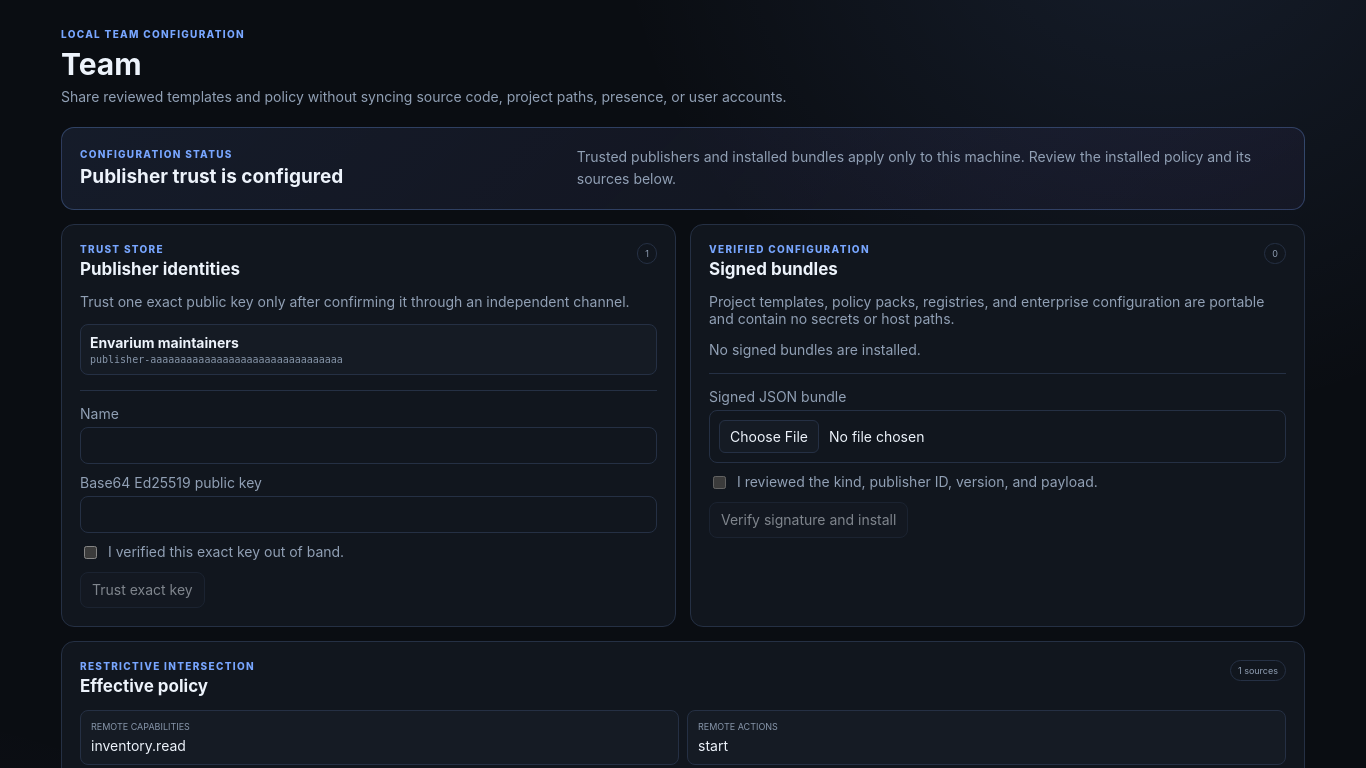
changing the publisher key revokes its previous confirmation
This screenshot has width=1366, height=768.
Check: the heading "Publisher identities" is shown, box [80, 259, 240, 279]
Step 1. Type "Owner" into the field labelled "Name" → (368, 445), box [80, 427, 657, 464]
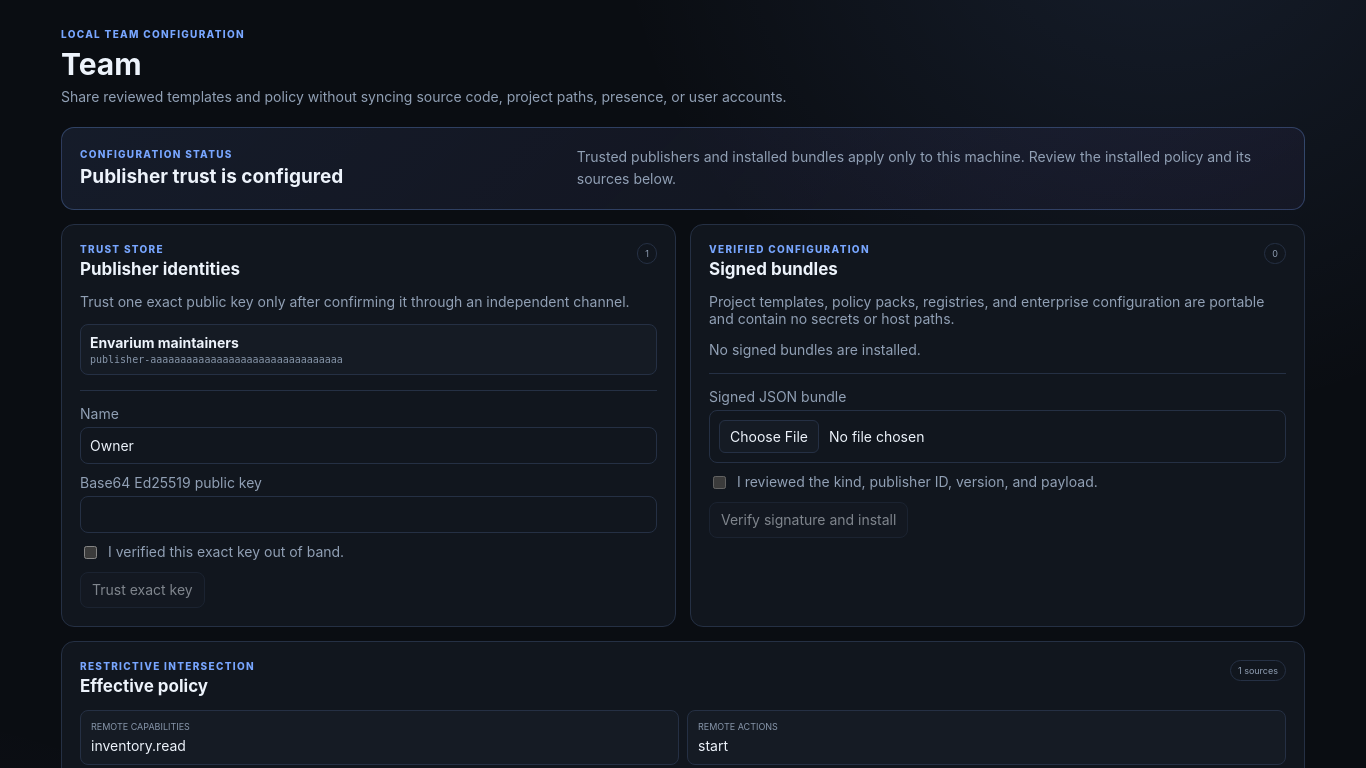
Step 2. Type "first-key" into the field labelled "Base64 Ed25519 public key" → (368, 514), box [80, 496, 657, 533]
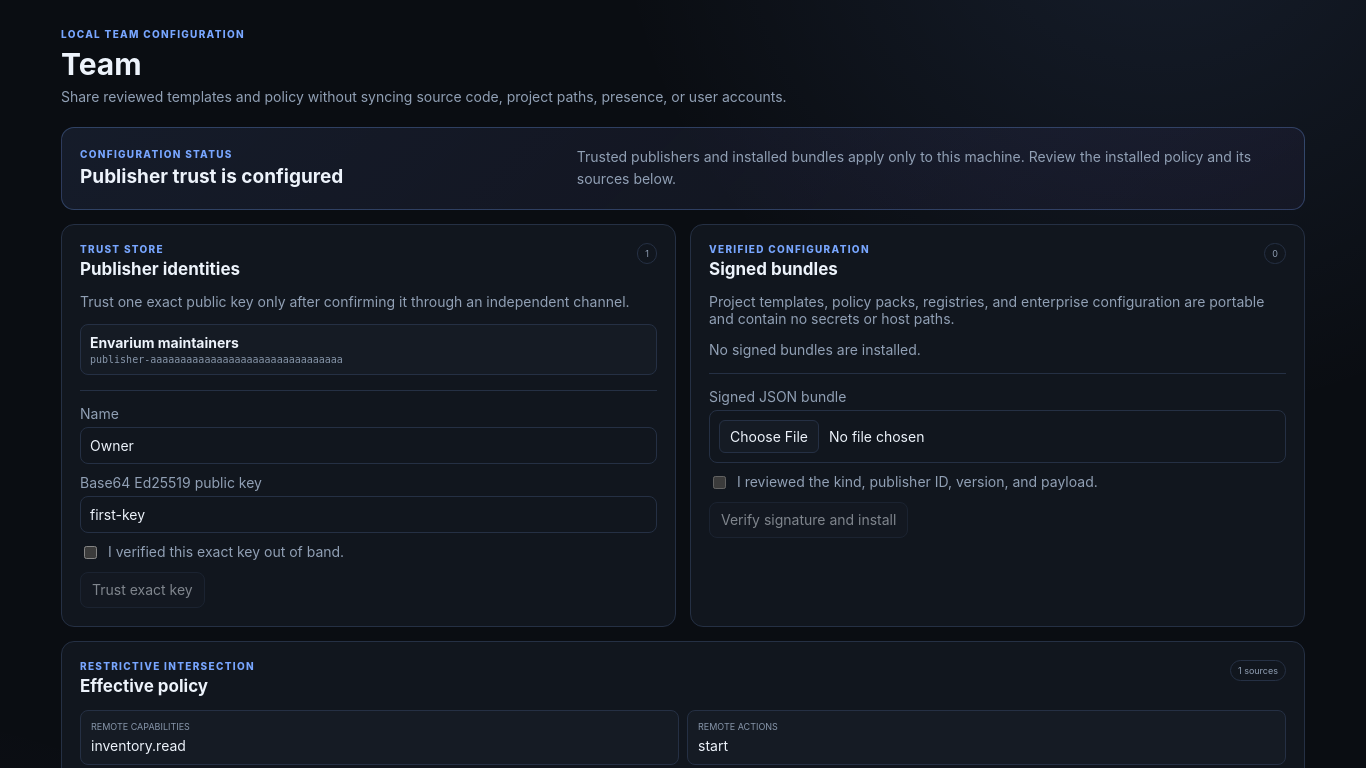
Step 3. Click the checkbox labelled "I verified this exact key out of band." → (90, 552), box [84, 546, 97, 559]
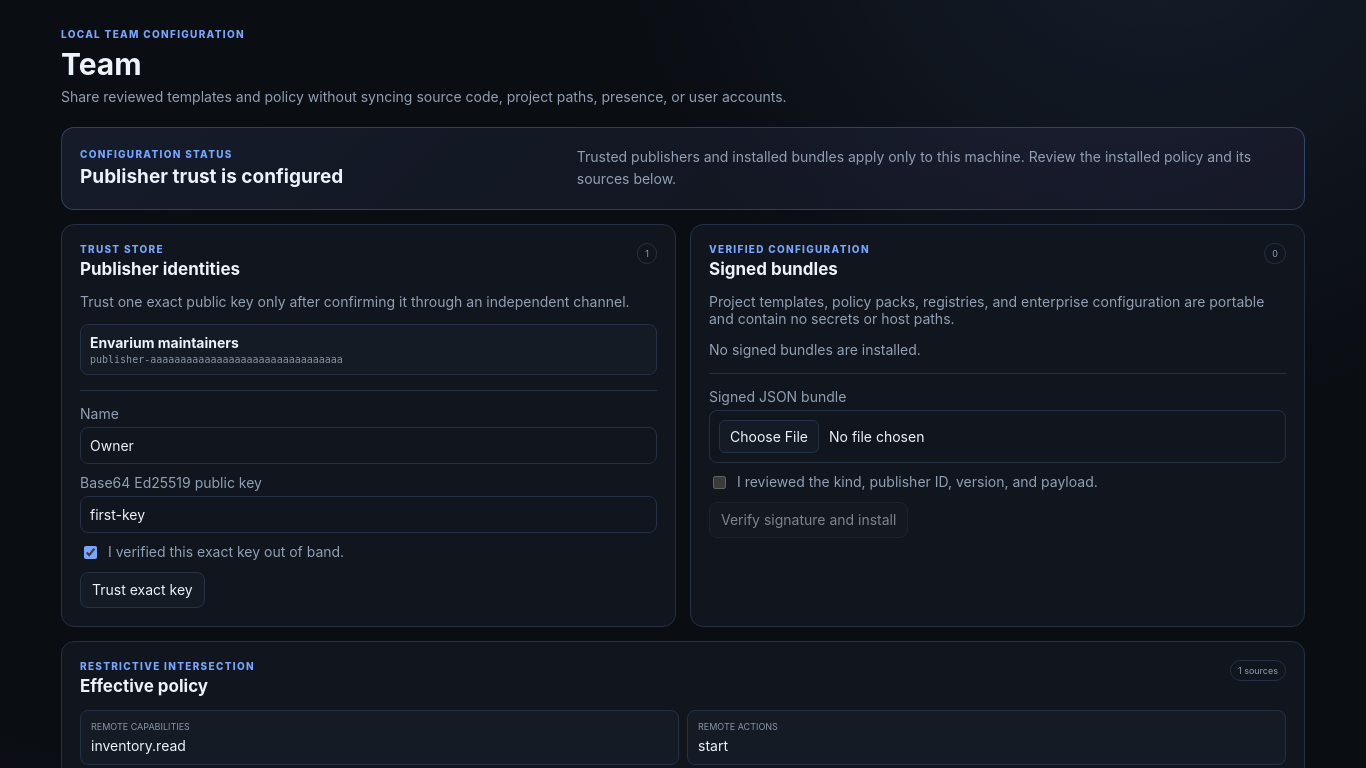
Check: the button "Trust exact key" is enabled, box [80, 572, 205, 608]
Step 4. Replace the text in the field labelled "Base64 Ed25519 public key" with "replacement-key" → (368, 514), box [80, 496, 657, 533]
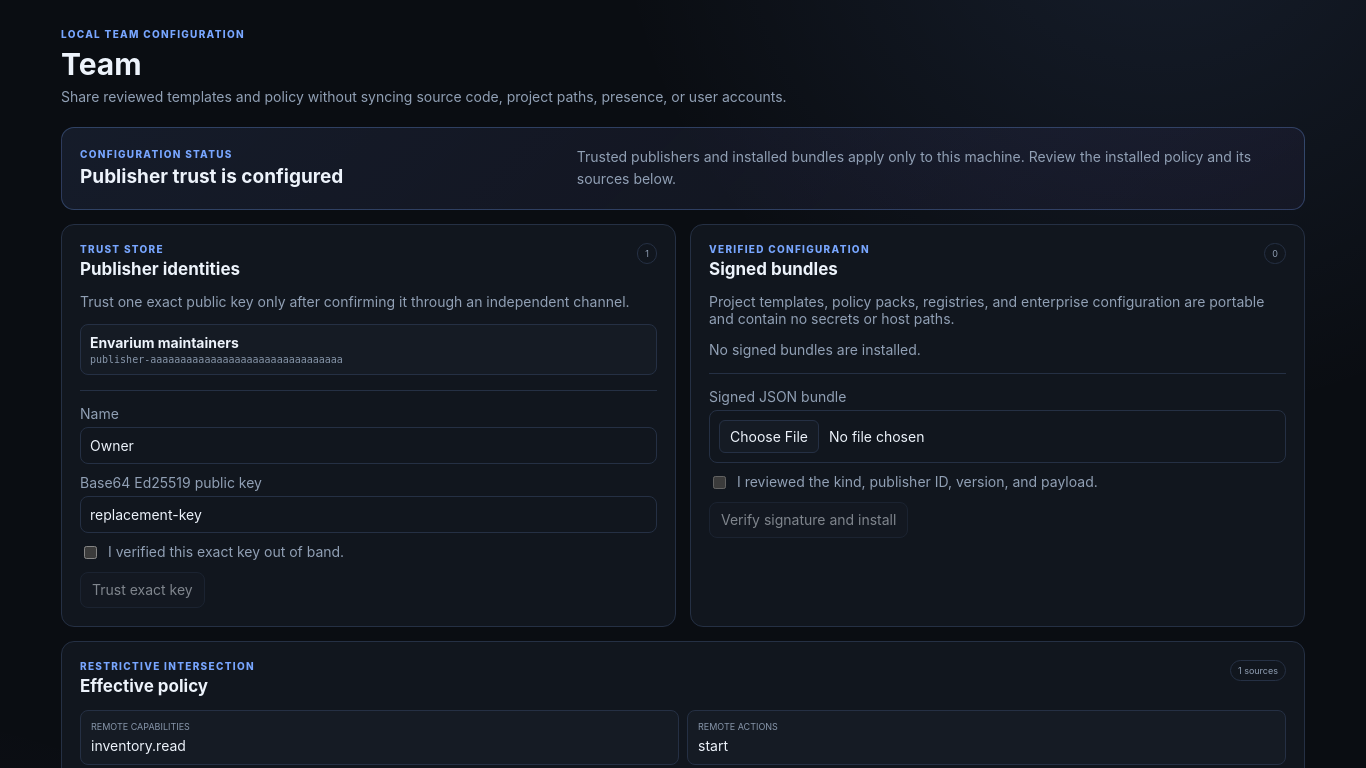
Check: the checkbox labelled "I verified this exact key out of band." is not checked, box [84, 546, 97, 559]
Check: the button "Trust exact key" is disabled, box [80, 572, 205, 608]
